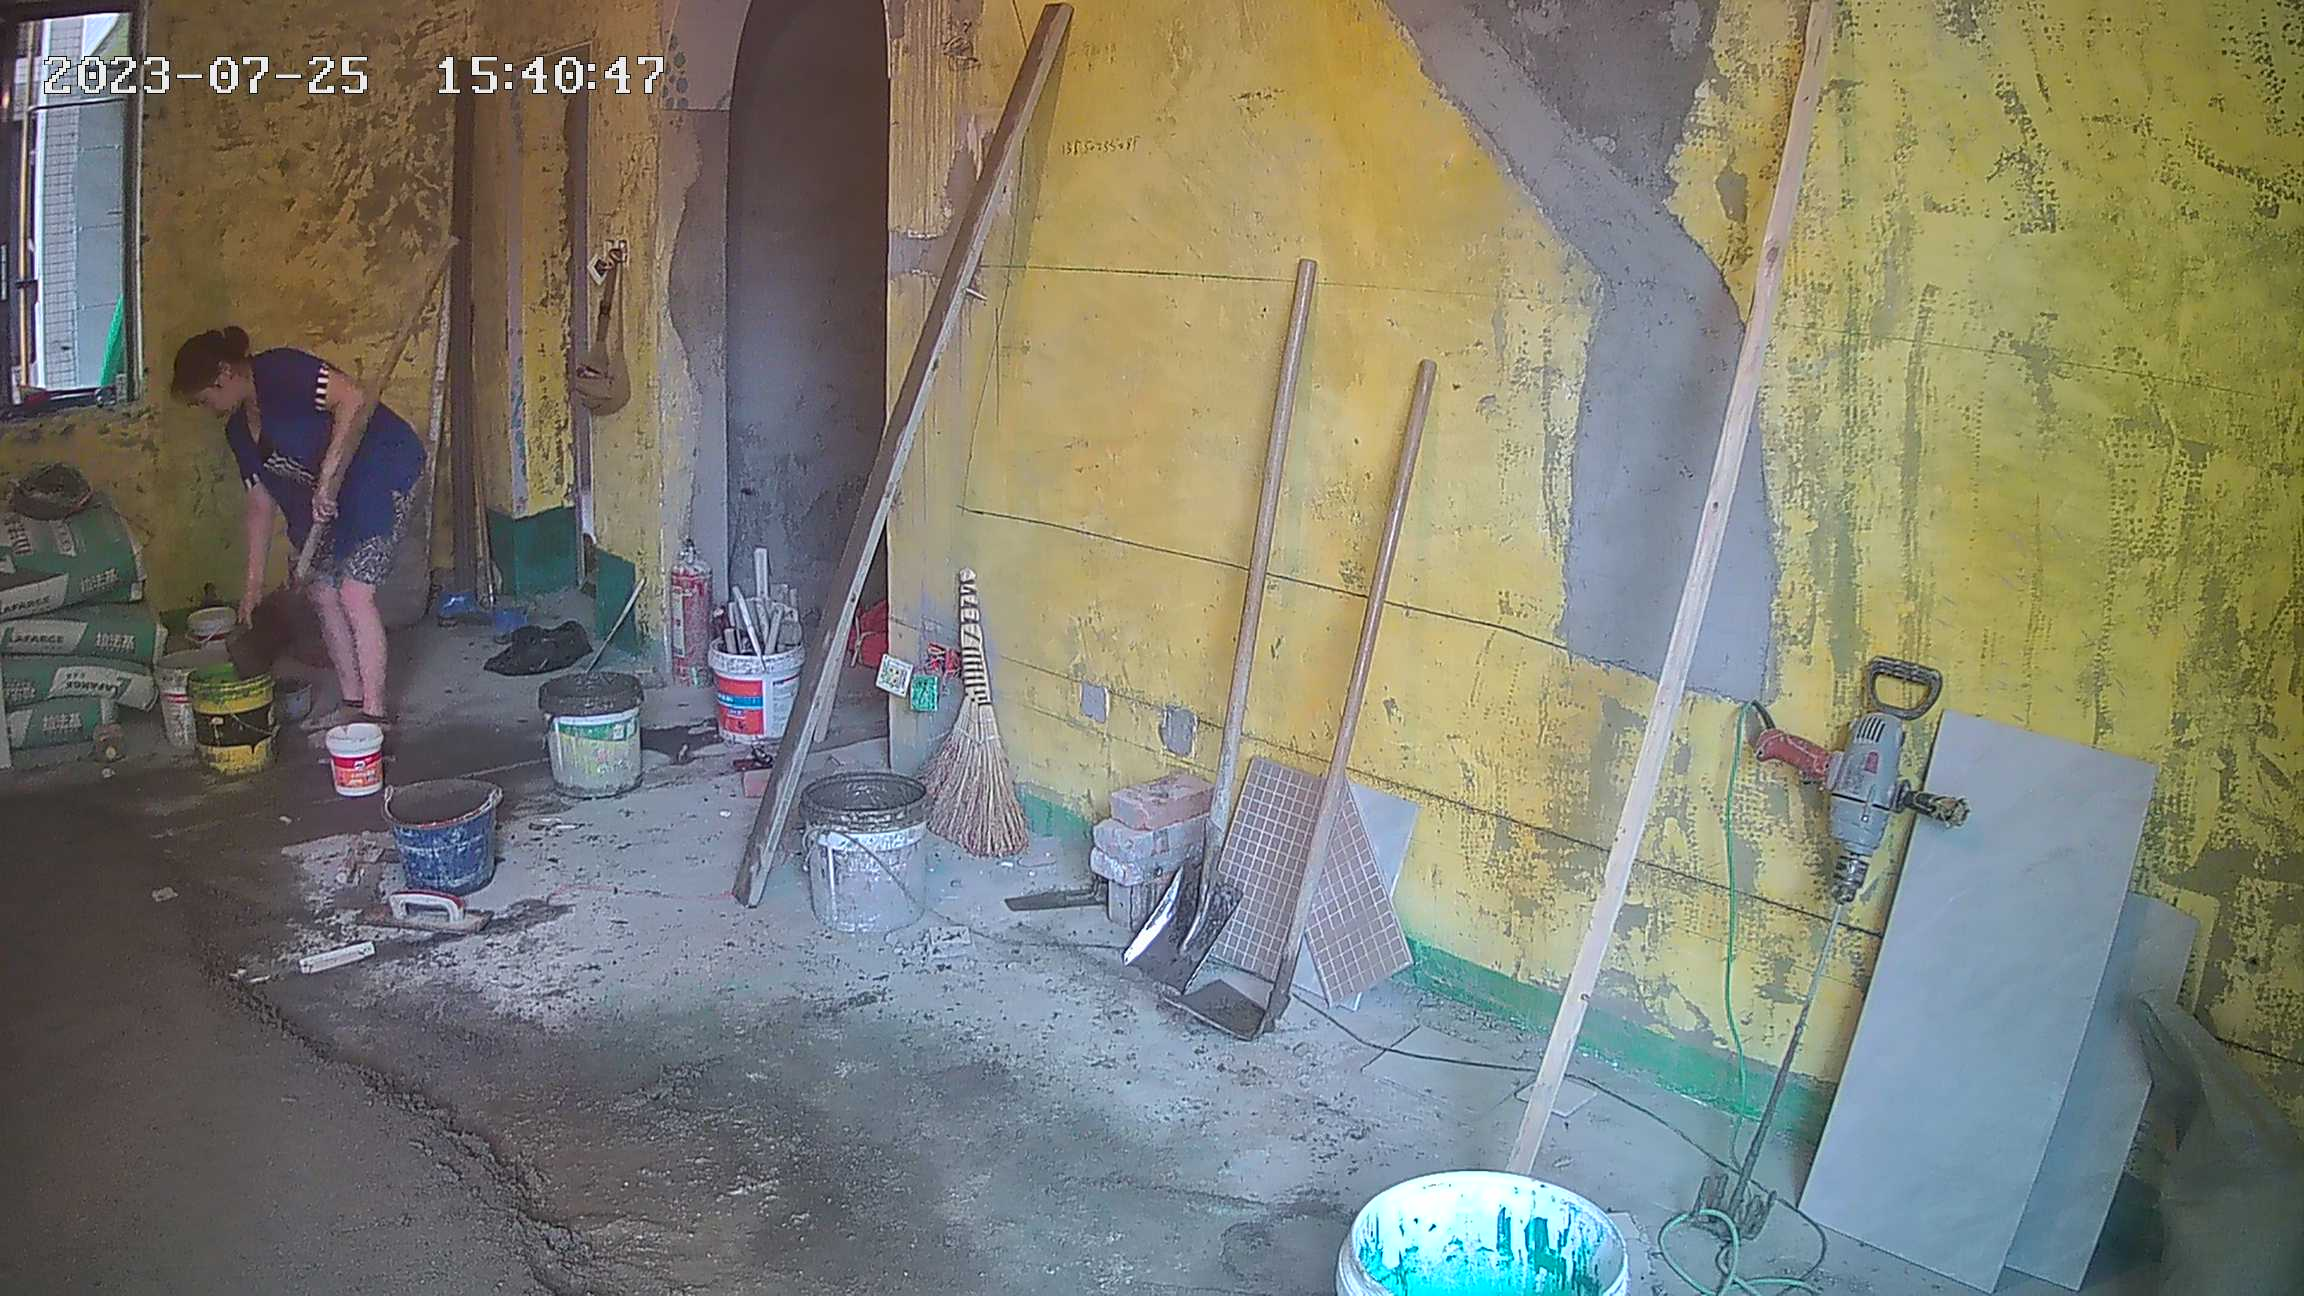people: (165, 335, 422, 748)
window: (1, 1, 139, 400)
